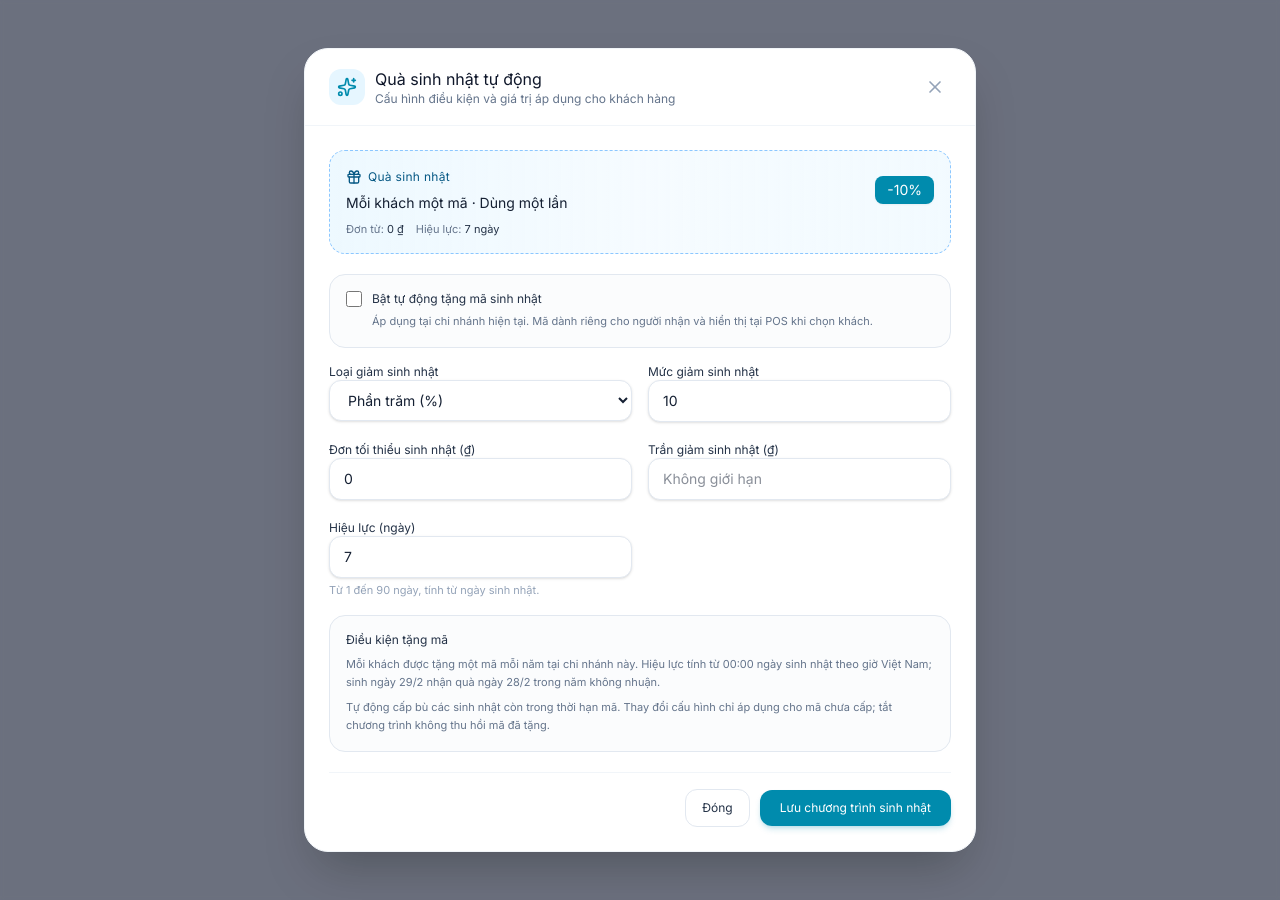
Test: loads disabled birthday configuration and explicitly enables it with the current version
The width and height of the screenshot is (1280, 900).
Click the checkbox labelled "Bật tự động tặng mã sinh nhật" at (354, 299), box [346, 291, 362, 307]
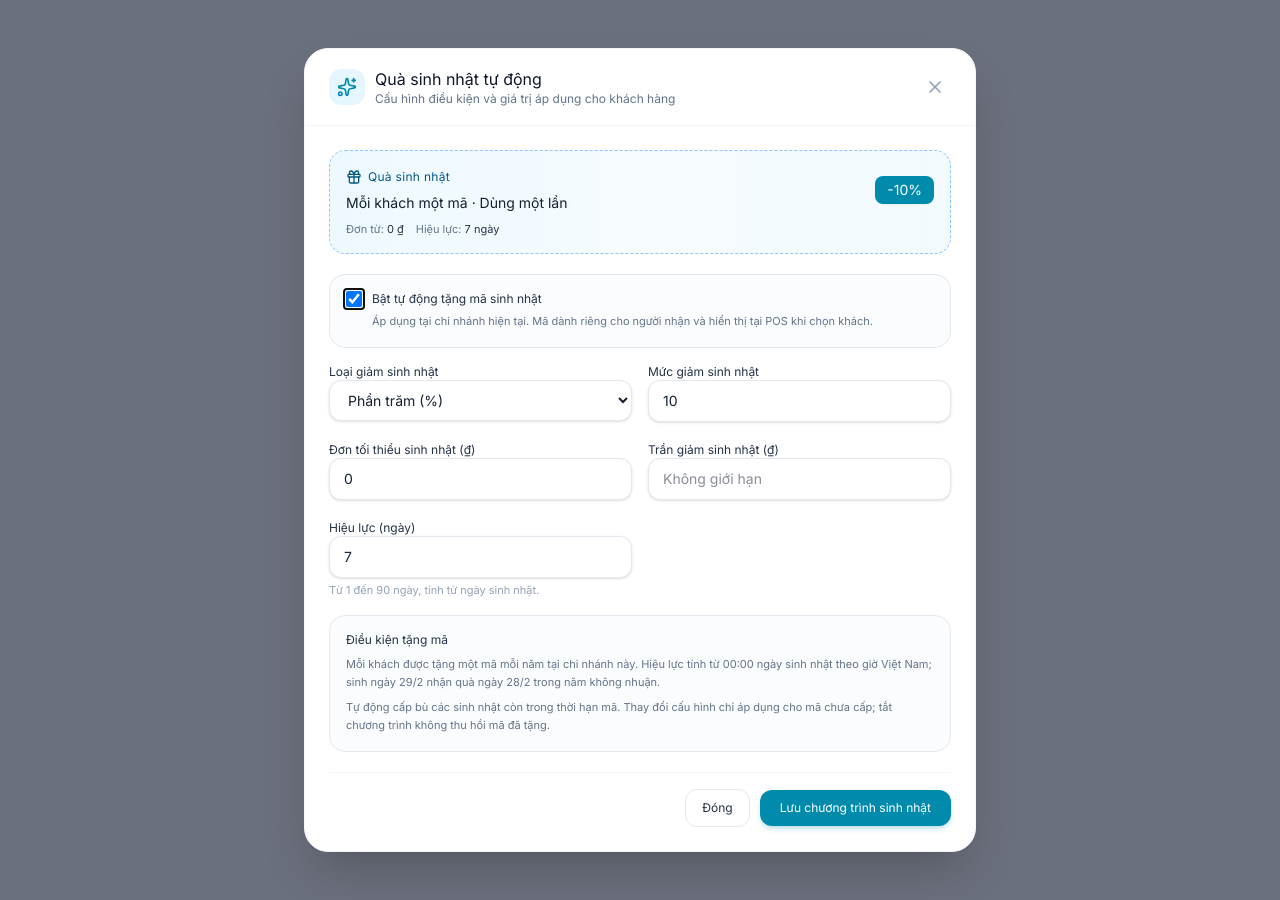
Replace the text in the number field labelled "Hiệu lực (ngày)" with "14" at (480, 557), box [329, 536, 632, 578]
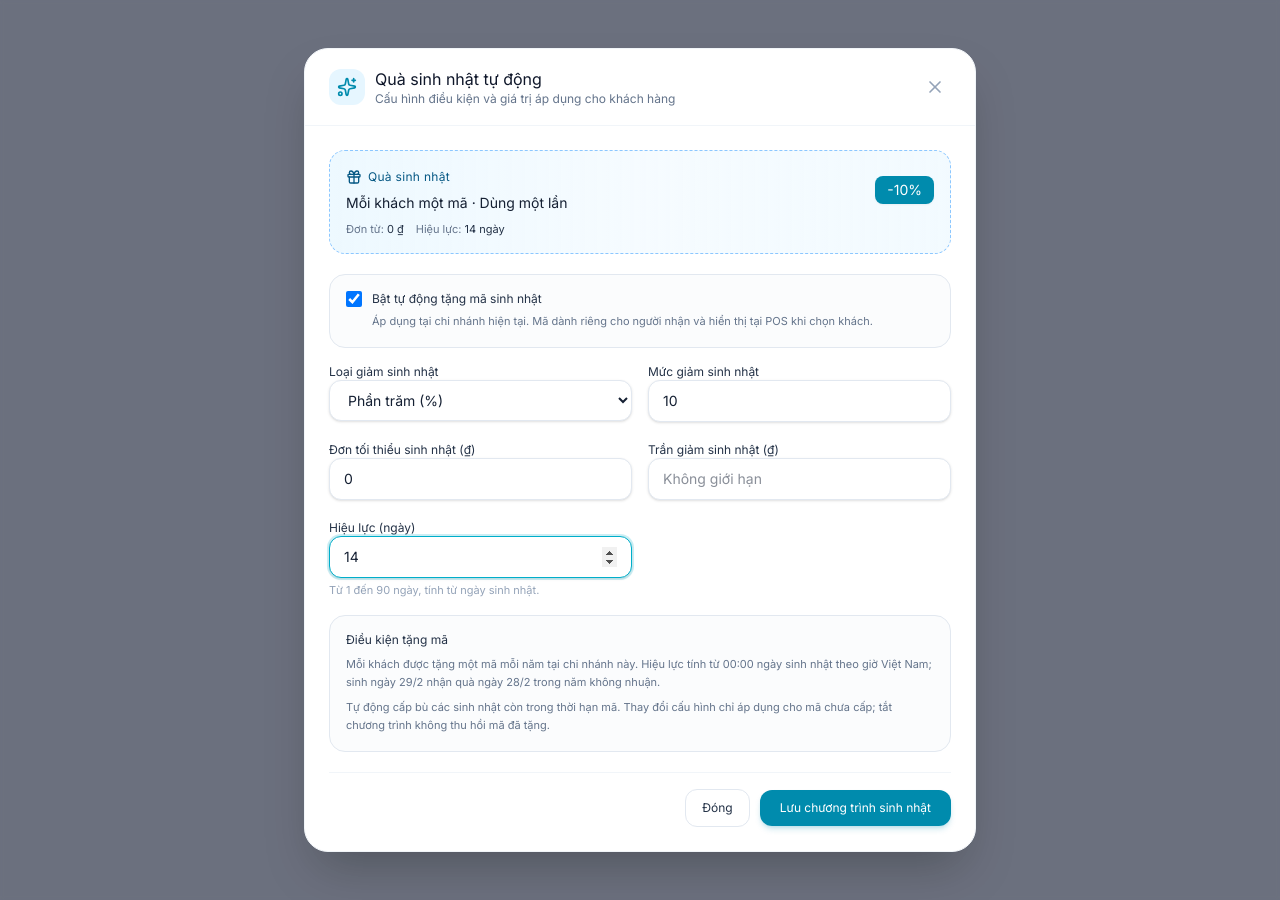
Click the button "Lưu chương trình sinh nhật" at (855, 808), box [760, 790, 951, 826]
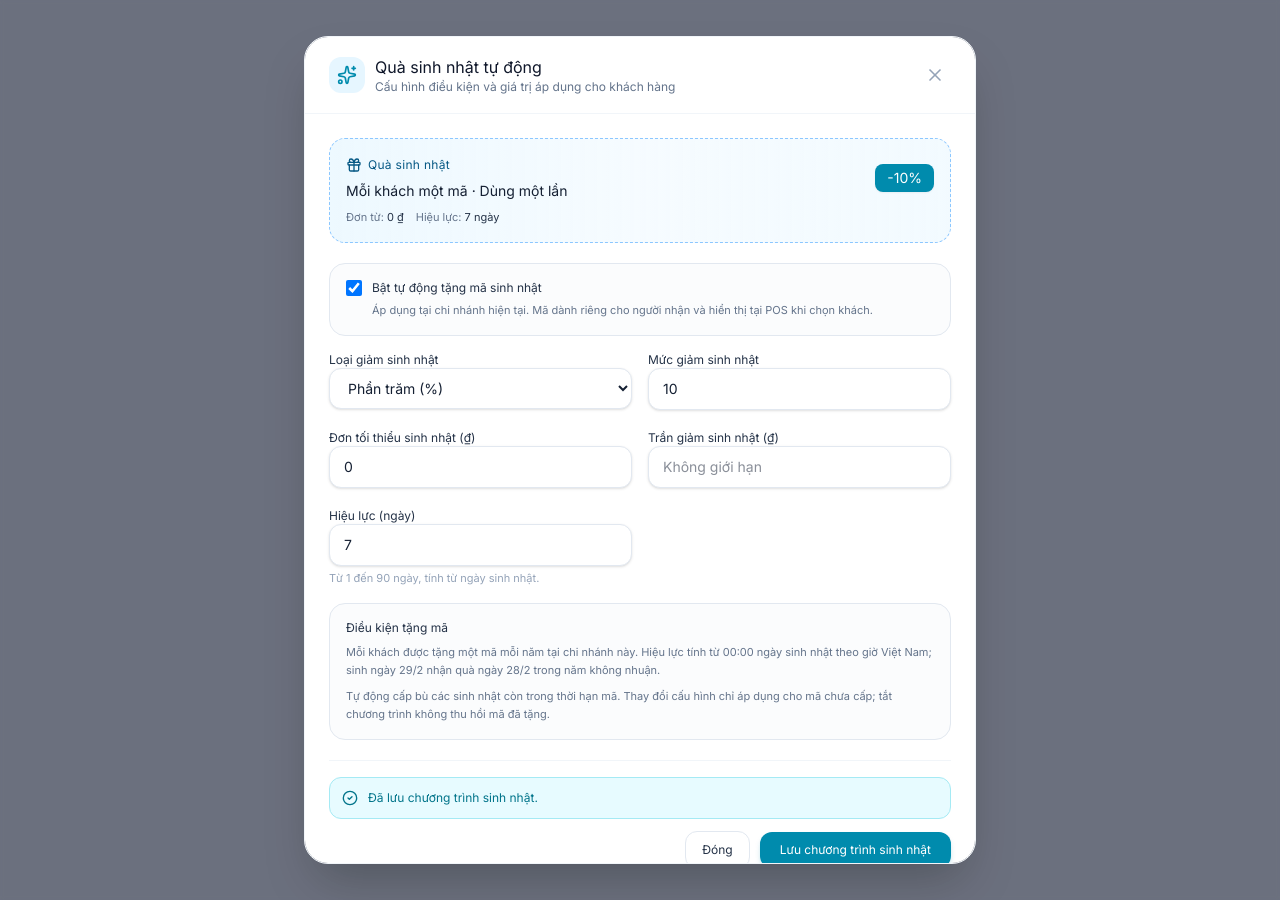
Expected: the message "Đã lưu chương trình sinh nhật." is shown, [329, 777, 951, 819]
